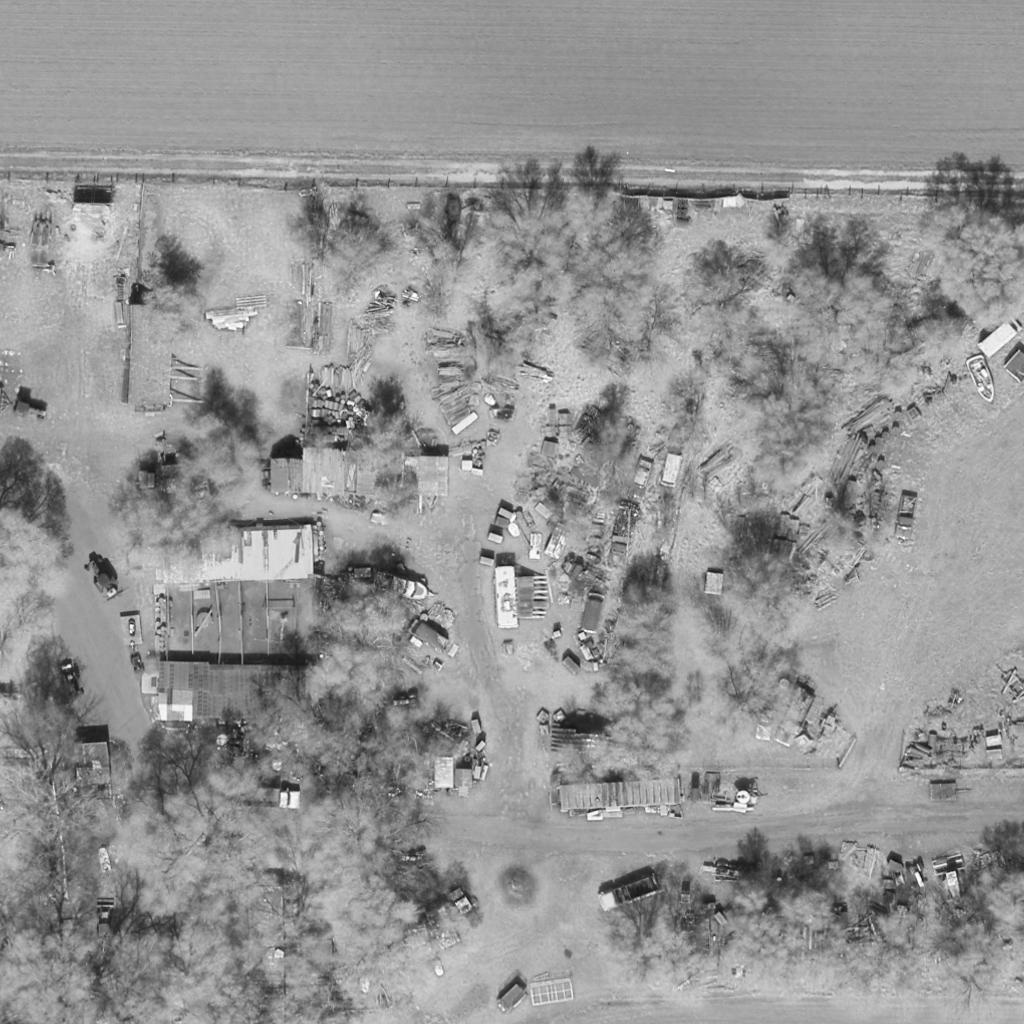vehicle: (772, 683, 820, 749), (74, 555, 130, 605), (598, 876, 662, 912), (606, 504, 640, 568), (43, 658, 89, 704), (979, 316, 1023, 358), (372, 573, 430, 603), (493, 567, 521, 629), (964, 358, 1000, 404), (238, 788, 300, 810), (893, 493, 919, 541), (93, 899, 121, 941), (629, 458, 653, 500), (14, 395, 48, 423), (584, 593, 606, 635), (757, 692, 775, 742), (662, 453, 684, 487), (126, 652, 146, 674), (97, 846, 113, 872)
